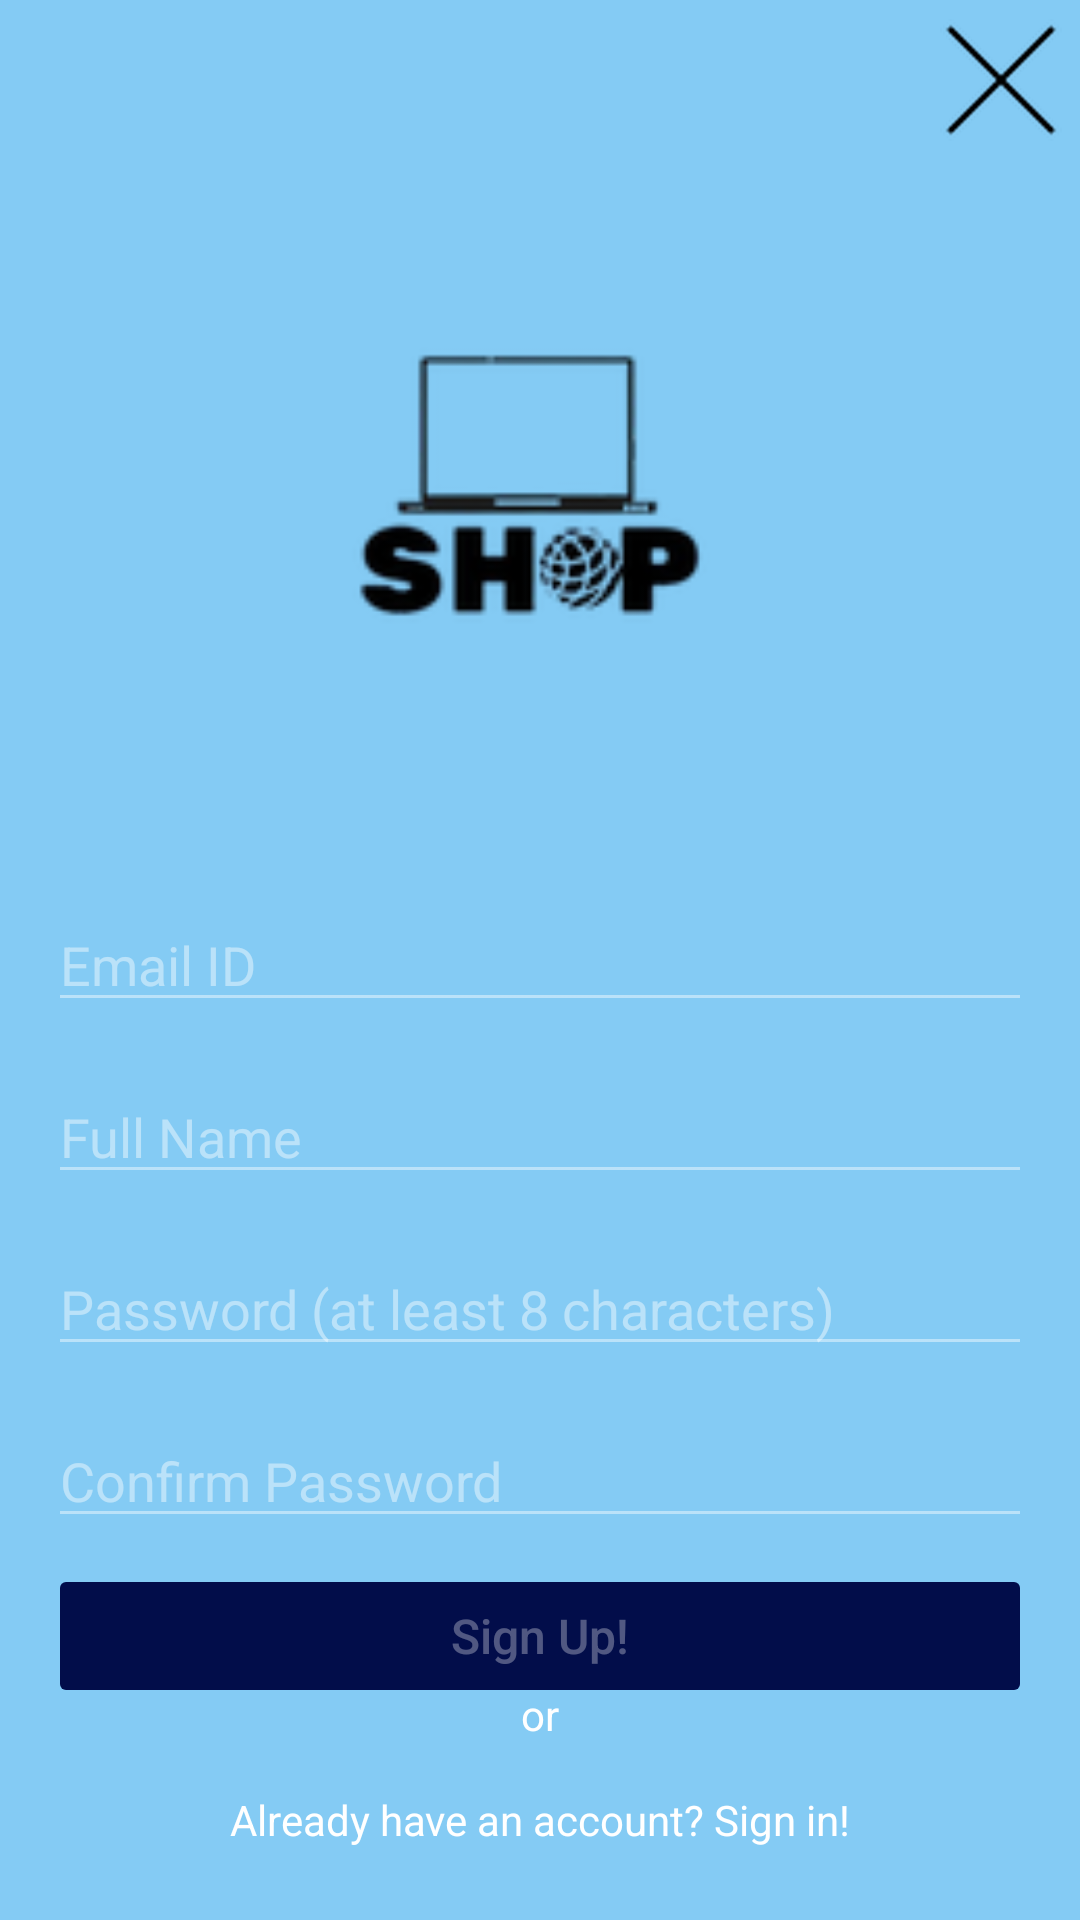

Where icons sit on this 1080px×1920px app screen, as (x1, y1, x2, y2):
close cross: (946, 25, 1056, 135)
